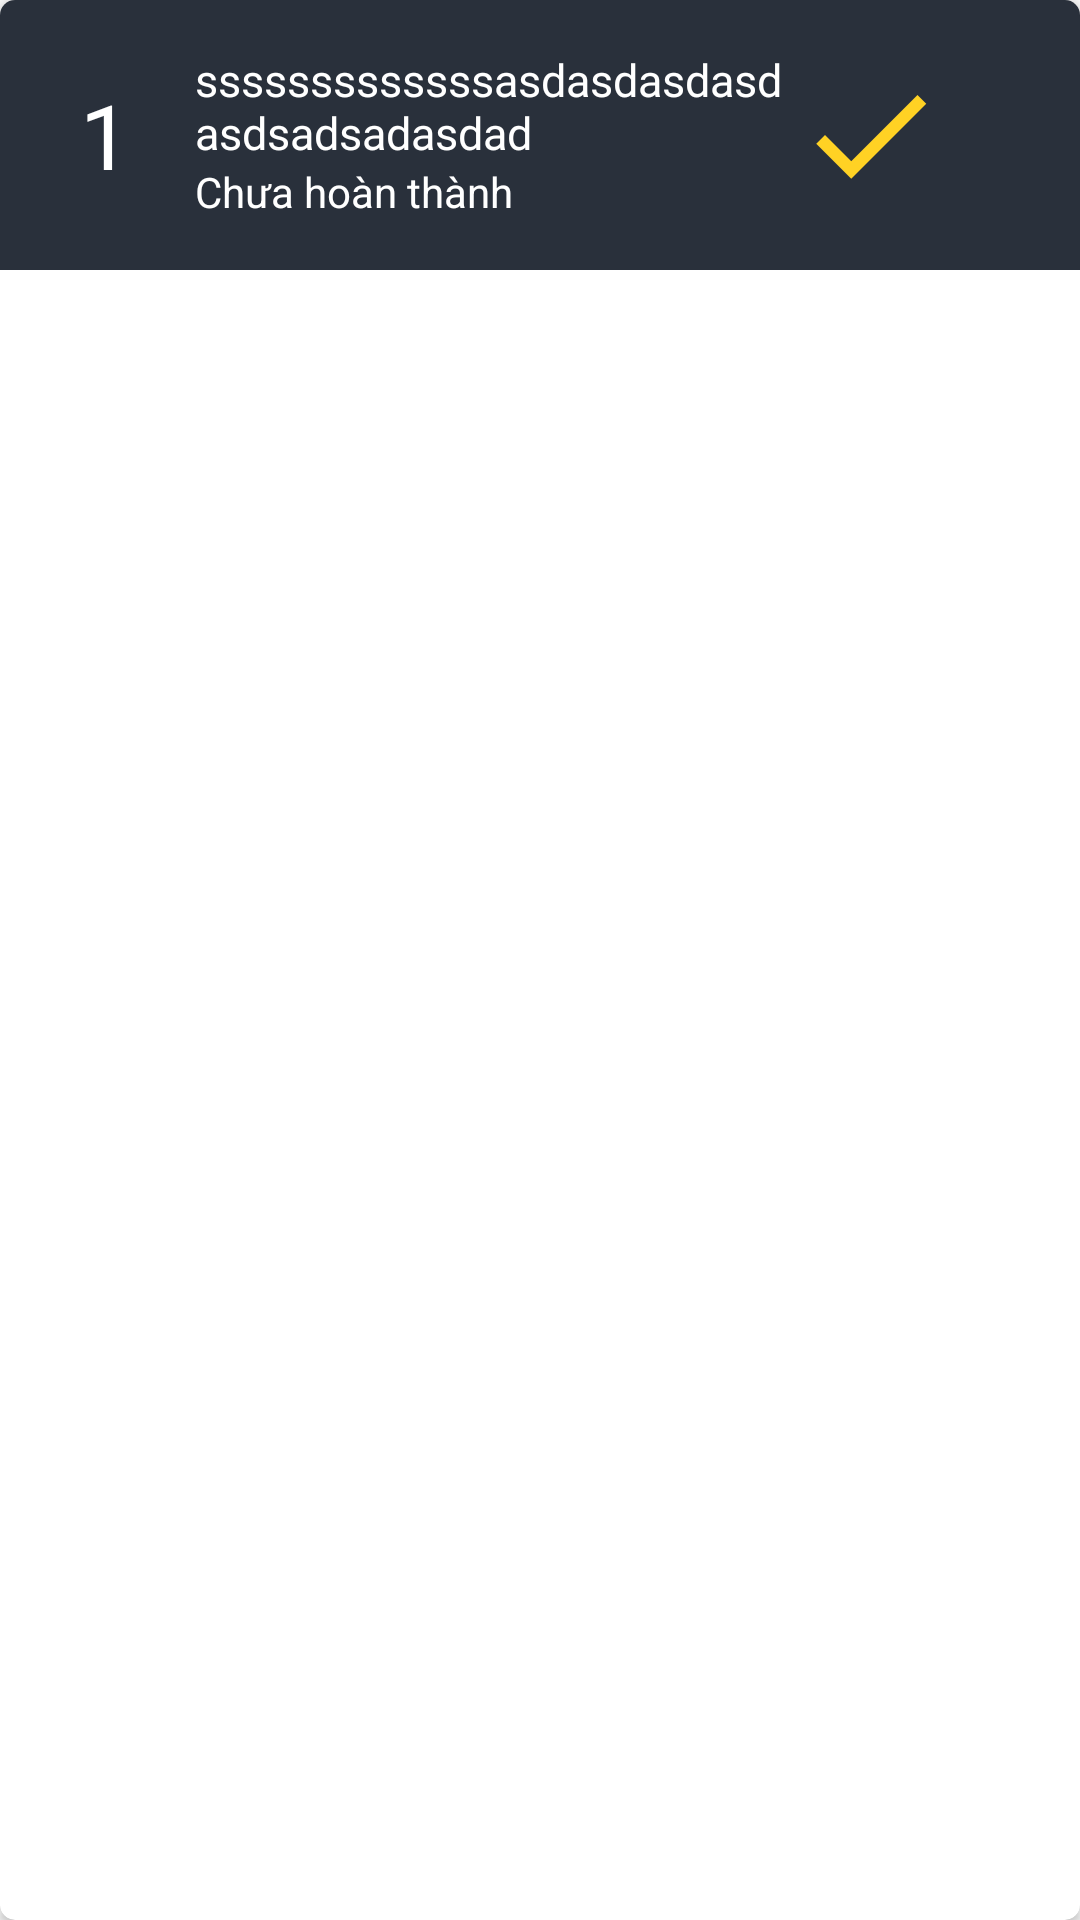

Named icons in this screenshot (1080px x 1920px) and their bounding boxes, (x1, y1, x2, y2):
done: (816, 95, 926, 179)
